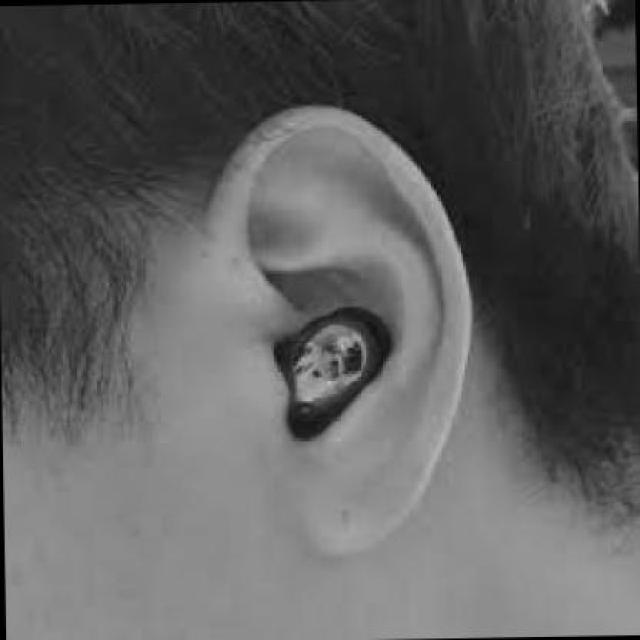earphone: (263, 248, 395, 460)
